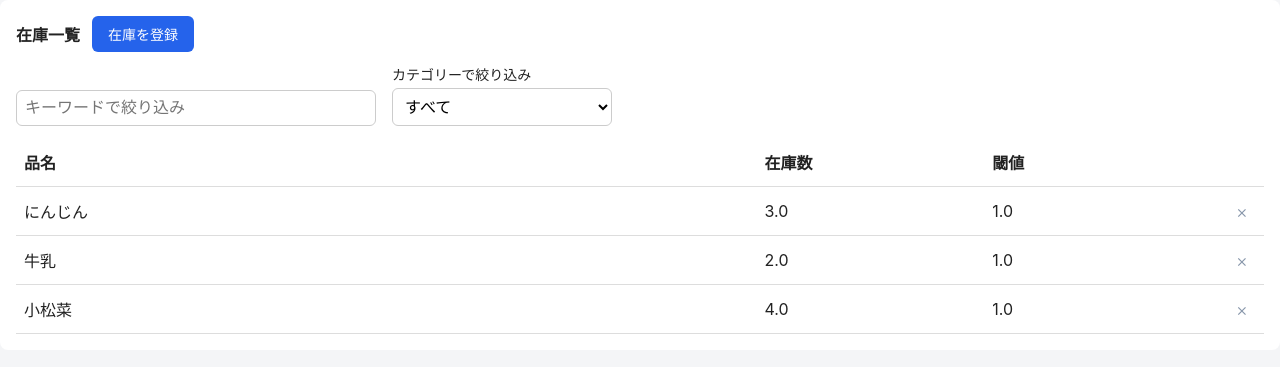
Test case: 品目のないカテゴリーを選ぶと0件を表示し、元データを変更しない
The width and height of the screenshot is (1280, 367).
Select "肉" in the dropdown labelled "カテゴリーで絞り込み" at (502, 107), box [392, 88, 612, 126]
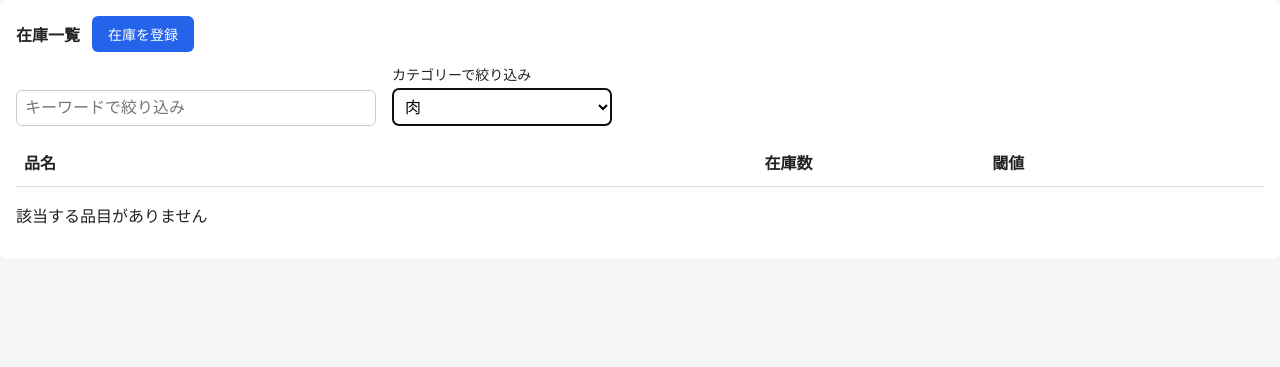
expect the text "該当する品目がありません" is shown: met, box [16, 206, 208, 226]
